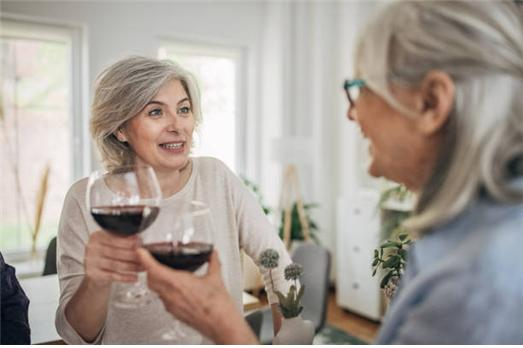alcohol: (138, 199, 214, 348), (86, 164, 162, 310)
